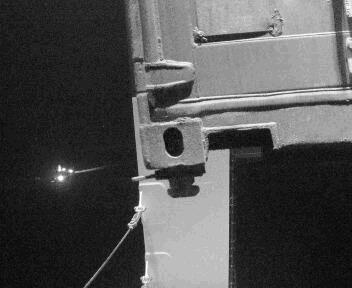twist_lock_1: (149, 159, 210, 204)
